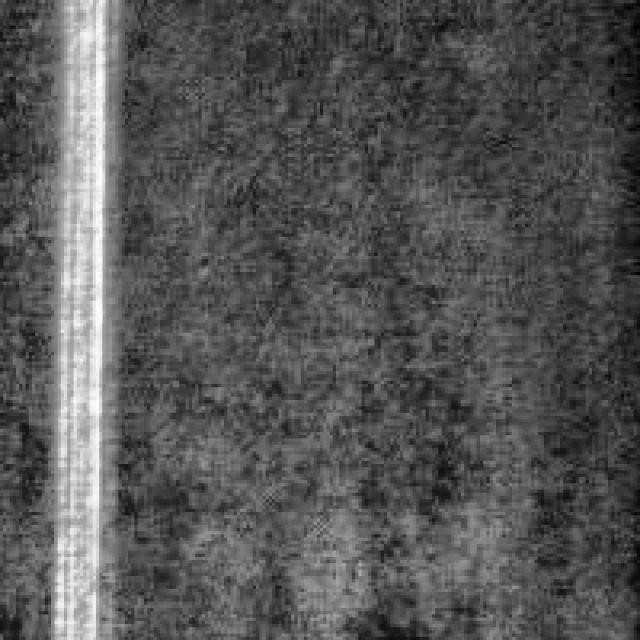Inclusion: (35, 0, 122, 634)
